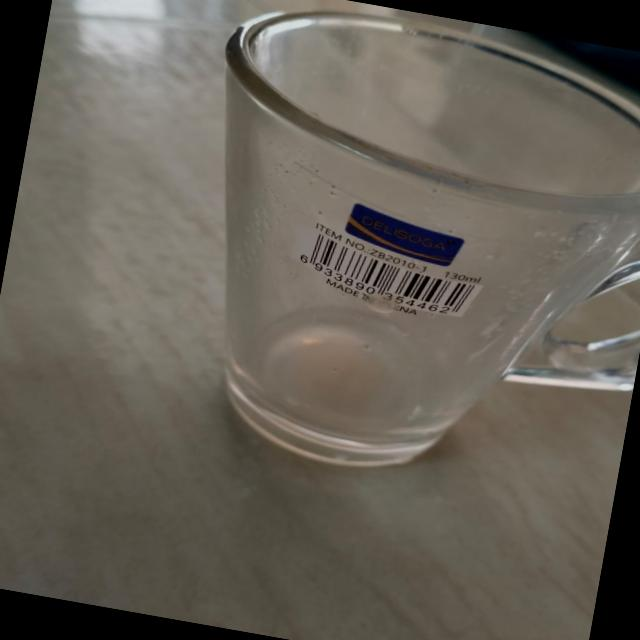glass-VX4N: (154, 0, 640, 519)
